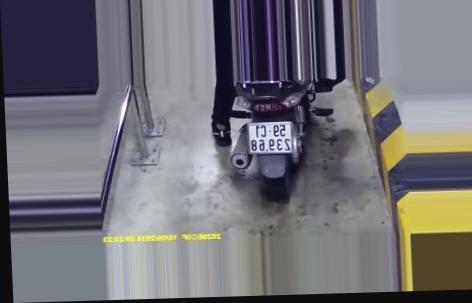License_Plate: (244, 118, 296, 160)
